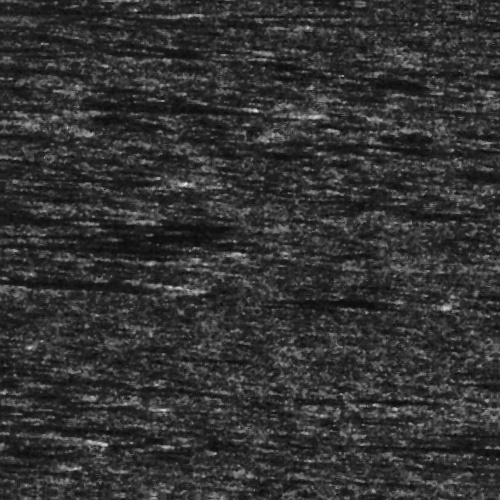object: (87, 280, 264, 299), (87, 175, 254, 190), (210, 219, 303, 232), (118, 10, 211, 19), (0, 286, 43, 299), (269, 107, 342, 114), (182, 248, 255, 255), (69, 0, 142, 2), (394, 297, 435, 300), (57, 443, 88, 446)
shadow: (0, 280, 176, 299), (43, 175, 171, 190), (133, 219, 256, 232), (0, 248, 218, 255), (0, 10, 165, 19), (114, 107, 305, 114), (318, 436, 500, 441), (243, 297, 414, 300), (0, 0, 105, 2), (10, 443, 72, 446), (386, 390, 441, 393)
